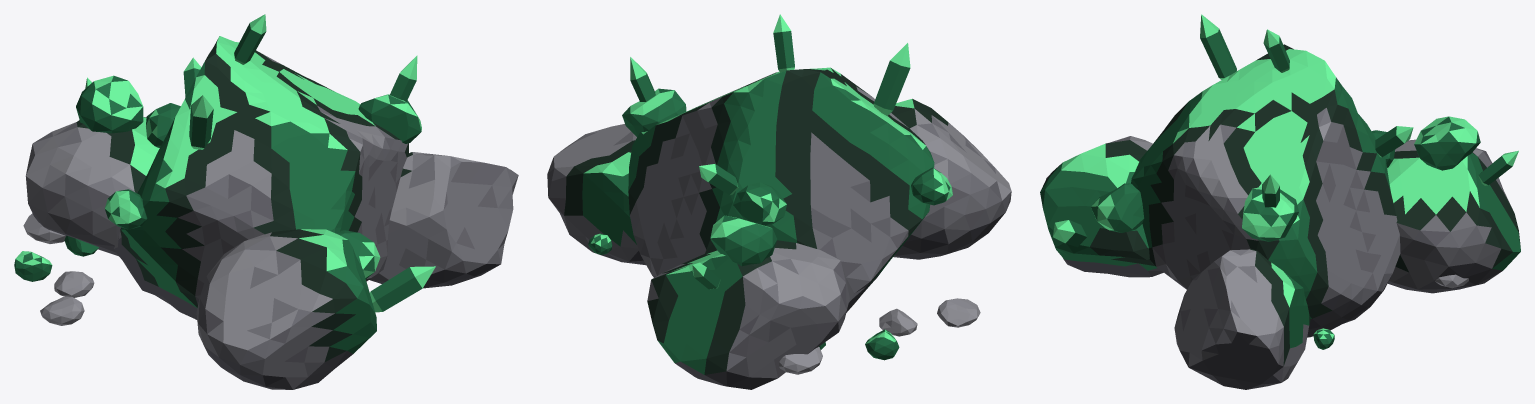
The model's file is Vein_Adamantite.obj.
3 renders of one model, left to right at view 1: azimuth 30°, elevation 25°; view 2: azimuth 150°, elevation 25°; view 3: azimuth 270°, elevation 25°, orthographic. The views are drawn at different scales.
Visible parts, largest first — view 1: Vein_Adamantite; view 2: Vein_Adamantite; view 3: Vein_Adamantite.
Boxes of the visible parts, left/top/right/bottom form: Vein_Adamantite: left=14, top=14, right=518, bottom=389; Vein_Adamantite: left=547, top=14, right=1011, bottom=389; Vein_Adamantite: left=1040, top=14, right=1520, bottom=389.
Bounding box in the file's own units: 1.55 × 0.9318 × 1.52.
